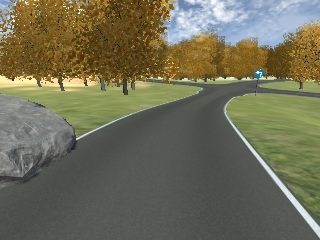left: (254, 70, 263, 81)
